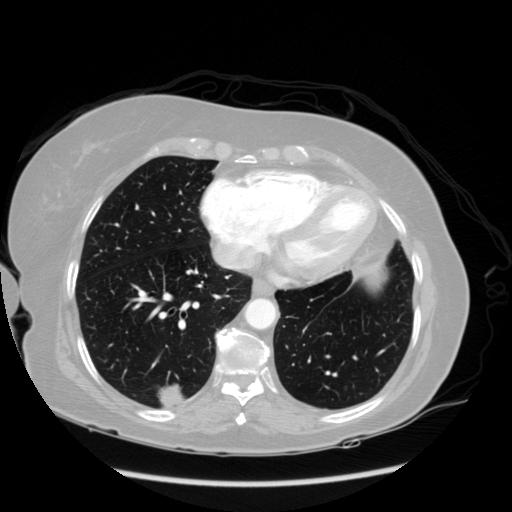nodule: (154, 380, 186, 412)
